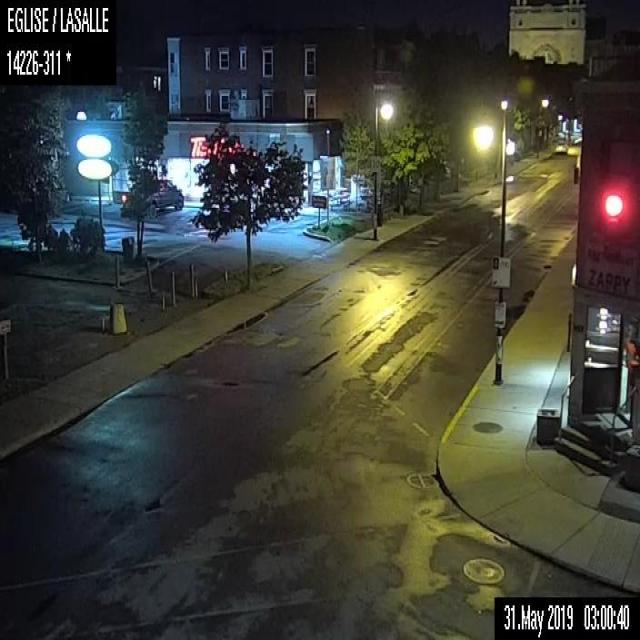vehicle: (146, 178, 185, 219)
